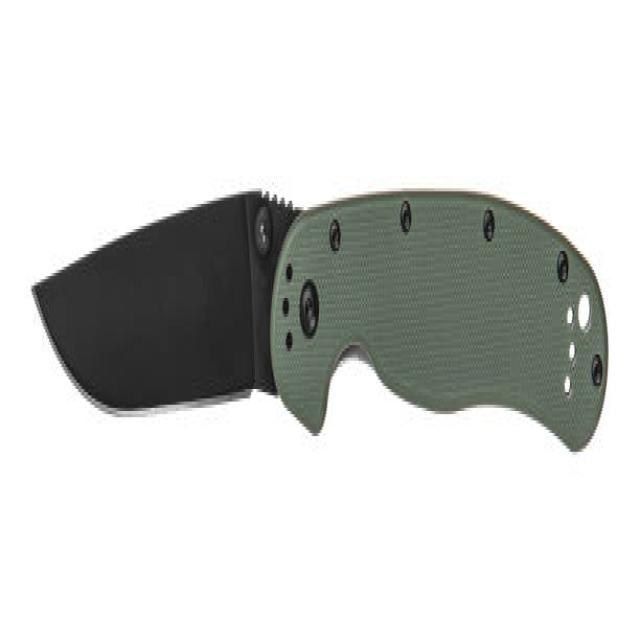knife: (25, 162, 614, 512)
